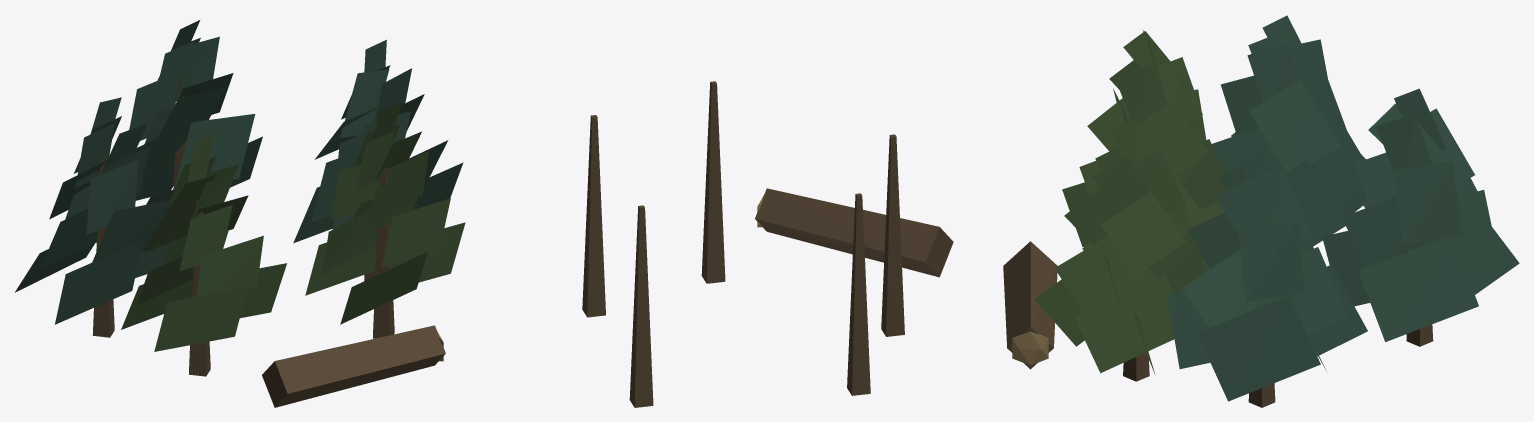
File: timber_forest-far.glb
The picture shows the model from 3 angles, left to right: view 1: azimuth 30°, elevation 25°; view 2: azimuth 150°, elevation 25°; view 3: azimuth 270°, elevation 25°; orthographic projection. The views are drawn at different scales.
Parts seen in each view (by area): view 1: world-scenery/timber_forest-far; view 2: world-scenery/timber_forest-far; view 3: world-scenery/timber_forest-far.
Boxes of the visible parts, bbox=[...] form: world-scenery/timber_forest-far: bbox=[15, 20, 465, 407]; world-scenery/timber_forest-far: bbox=[582, 81, 953, 407]; world-scenery/timber_forest-far: bbox=[1003, 15, 1519, 407].
Size of the model in its own units: 4.05 by 2.31 by 4.24.
